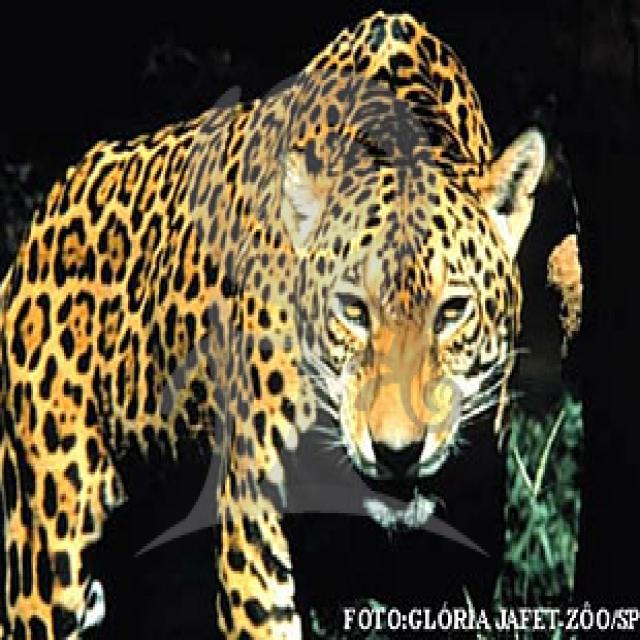Leopard: (0, 3, 547, 634)
